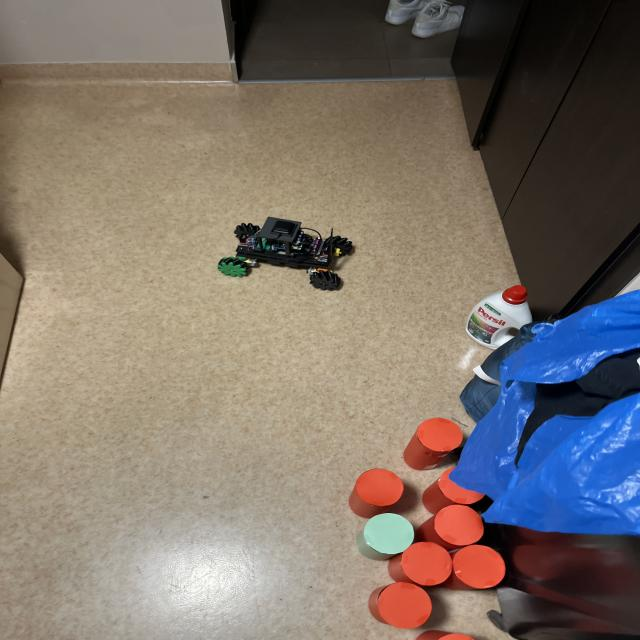robot: (218, 217, 353, 290)
